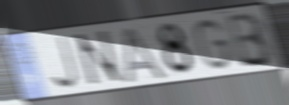8: (156, 21, 195, 77)
A: (122, 24, 169, 86)
B: (225, 10, 276, 70)
G: (191, 17, 234, 72)
J: (49, 35, 80, 91)
N: (72, 28, 126, 89)
